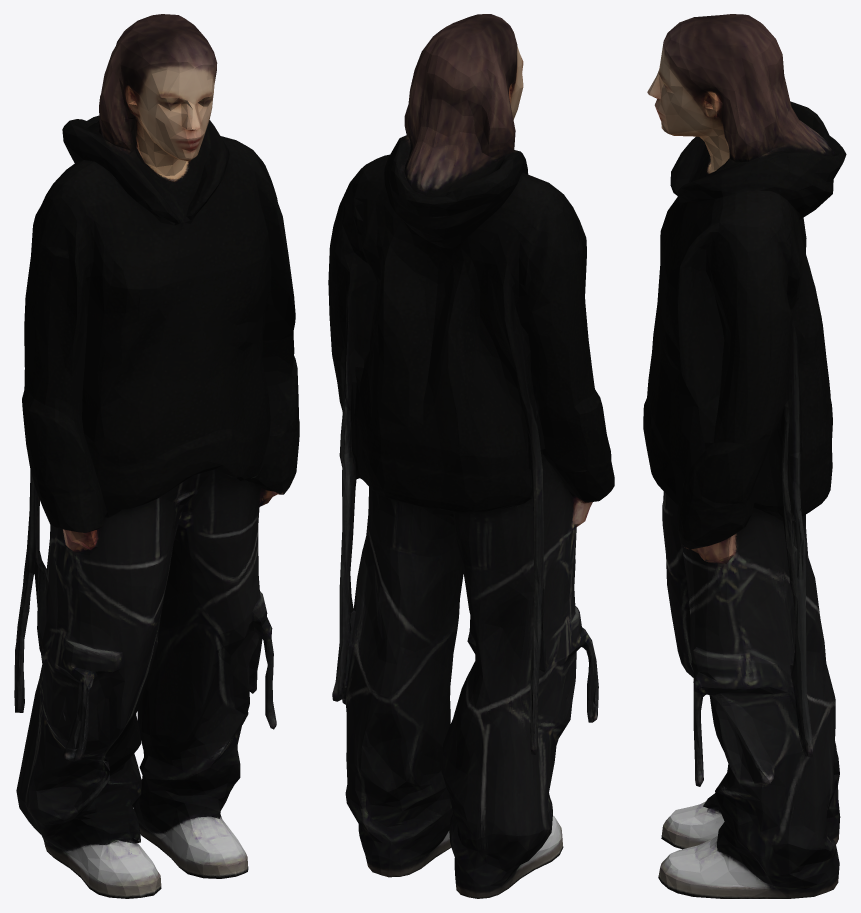
File: female-avatar.glb
The picture shows the model from 3 angles, left to right: view 1: azimuth 30°, elevation 25°; view 2: azimuth 150°, elevation 25°; view 3: azimuth 270°, elevation 25°; orthographic projection. The views are drawn at different scales.
Parts seen in each view (by area): view 1: world; view 2: world; view 3: world.
Boxes of the visible parts, <box> form: world: <box>14,14,299,898</box>; world: <box>328,14,614,898</box>; world: <box>643,14,846,898</box>.
Size of the model in its own units: 0.3297 by 1 by 0.2175.
1 material, 1 textured.
